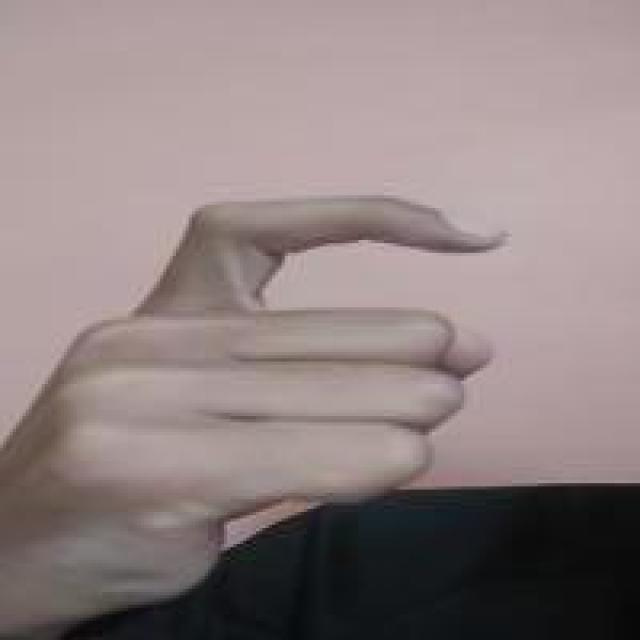X: (16, 184, 515, 622)
